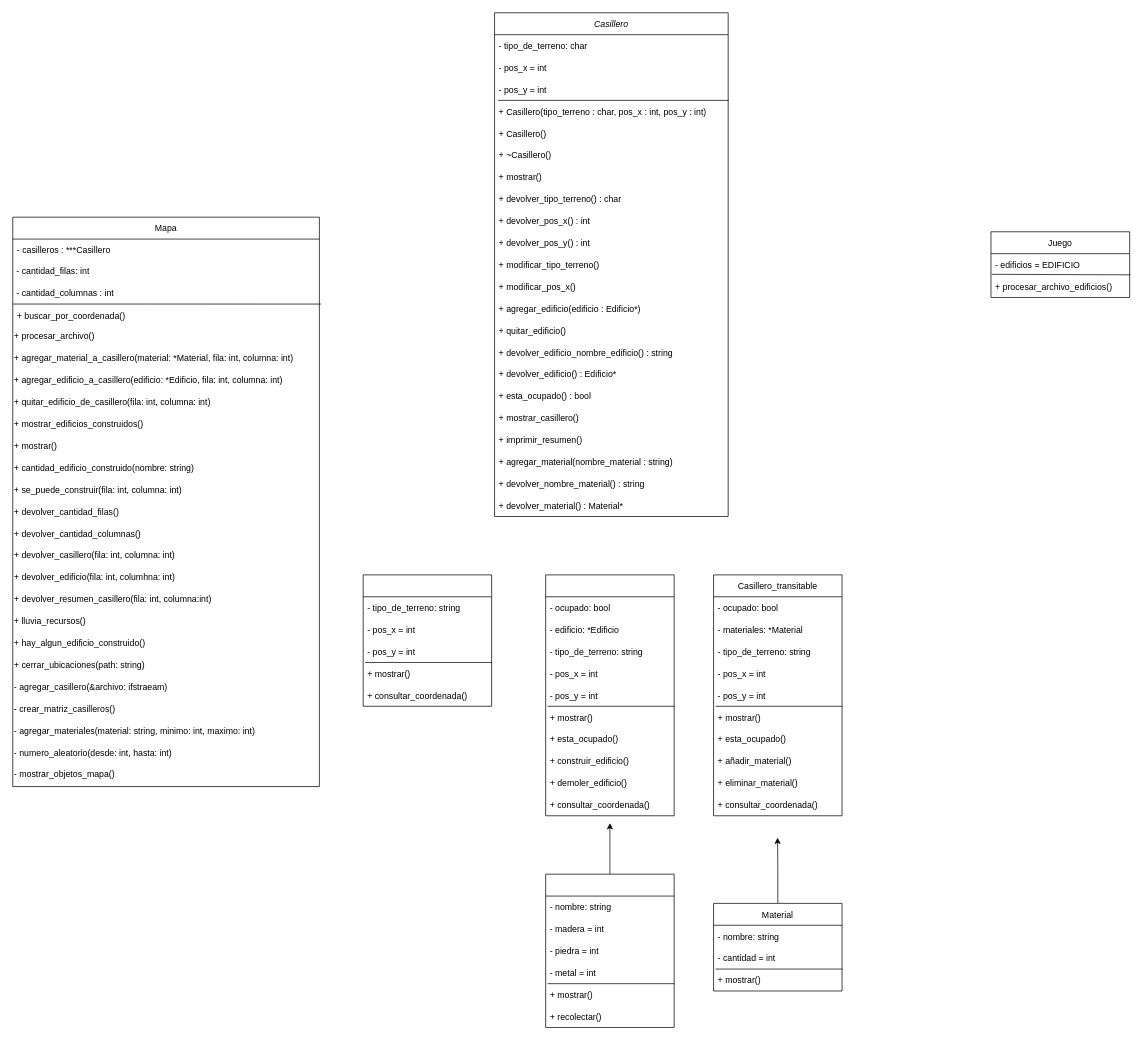
This 1144x1040 diagram has some shape labels left out. The shapes that lost their labels are listed below. From the top down, each one's box as (x1, y1, x2, y2) in pixels, then its label:
(362, 574, 492, 706): Casillero_no_accesible
(545, 574, 674, 816): Casillero_contruible
(545, 873, 674, 1027): Edificio
